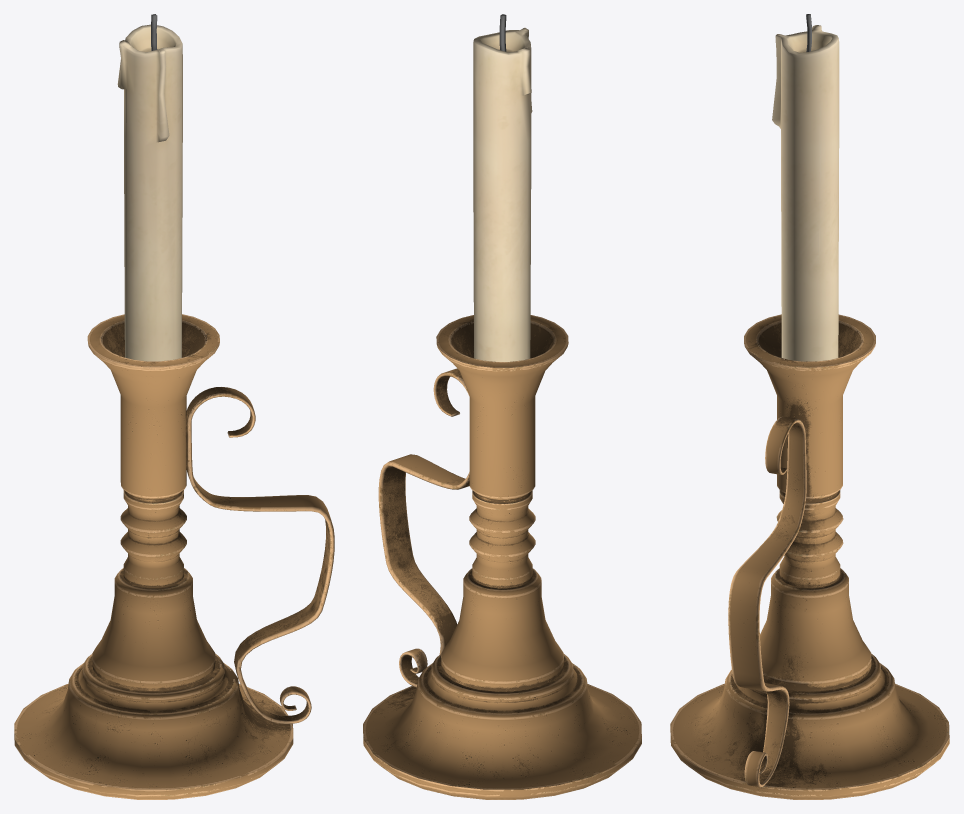
The model's file is candle_stick_holder.obj.
The picture shows the model from 3 angles, left to right: view 1: azimuth 30°, elevation 25°; view 2: azimuth 150°, elevation 25°; view 3: azimuth 270°, elevation 25°; orthographic projection.
Visible parts, largest first — view 1: obj1, obj2, obj4; view 2: obj1, obj2, obj4; view 3: obj1, obj2, obj4.
Part boxes in pixels (bbox=[...]): obj1: bbox=[14, 314, 293, 799]; obj2: bbox=[117, 24, 182, 361]; obj4: bbox=[186, 387, 334, 723]; obj1: bbox=[363, 315, 641, 799]; obj2: bbox=[473, 27, 532, 361]; obj4: bbox=[378, 368, 469, 687]; obj1: bbox=[670, 314, 949, 799]; obj2: bbox=[772, 25, 839, 361]; obj4: bbox=[728, 416, 806, 787].
Bounding box in the file's own units: 0.2012 × 0.5177 × 0.1796.
